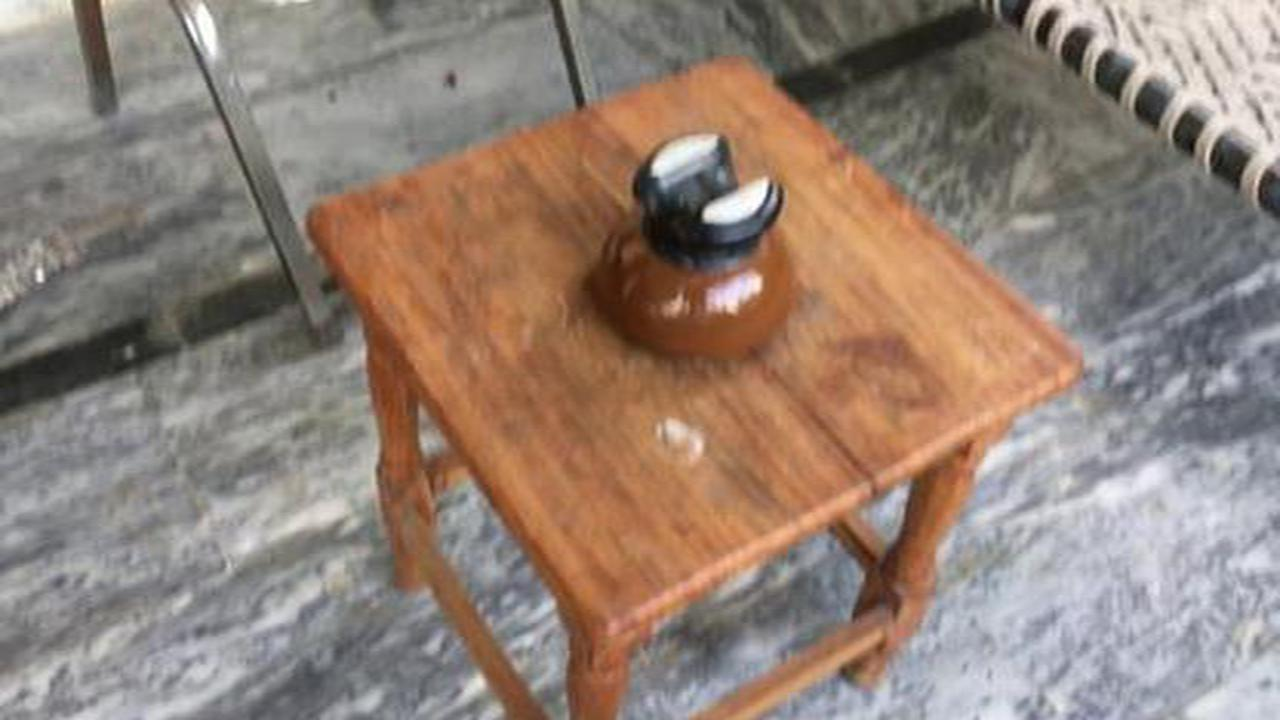insulator_pin: (557, 113, 816, 378)
